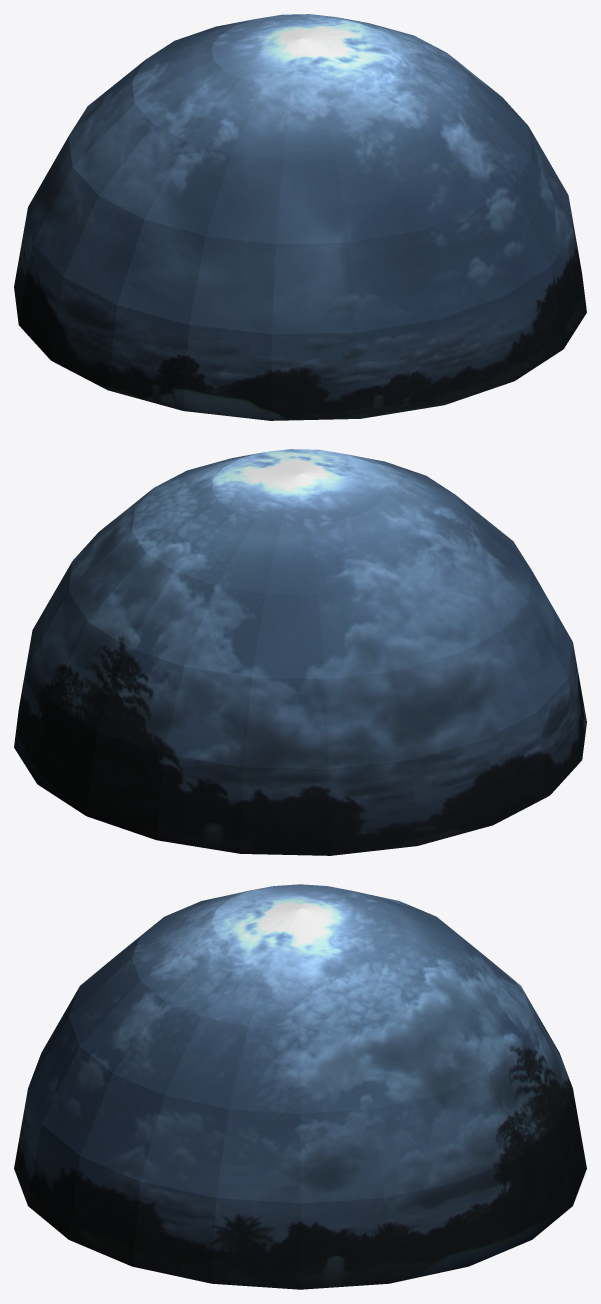
The model's file is sky.obj.
3 renders of one model, top to bottom at view 1: azimuth 30°, elevation 25°; view 2: azimuth 150°, elevation 25°; view 3: azimuth 270°, elevation 25°, orthographic.
Parts seen in each view (by area): view 1: Sphere; view 2: Sphere; view 3: Sphere.
Part boxes in pixels (box(x1,y1,x2,y2)): Sphere: box(14, 14, 586, 420); Sphere: box(14, 449, 586, 855); Sphere: box(14, 884, 586, 1289).
Bounding box in the file's own units: 200 × 100 × 200.
